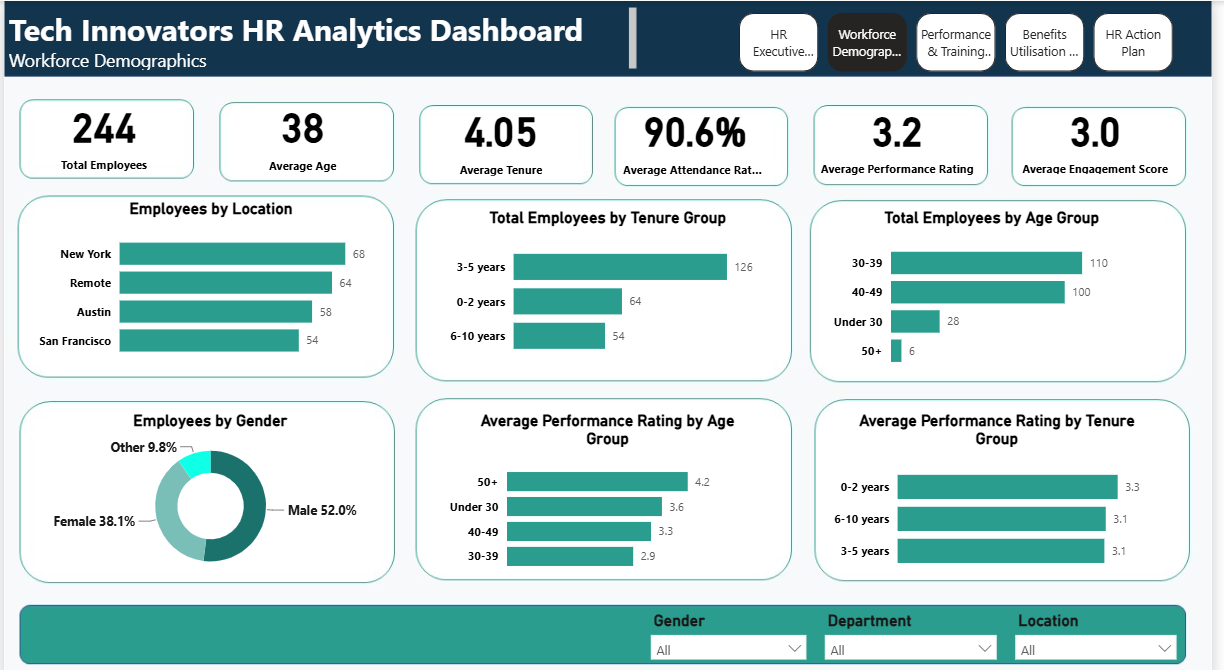

The dashboard page shown, as its layout file describes it:
{"tool":"powerbi","page":{"name":"Workforce Demographics","canvas":[1280,720],"ordinal":1},"visuals":[{"type":"cardVisual","fields":{"Data":["Measures_Table.Average Age"]},"box":[225.9,101.8,182.9,89.1],"z":0},{"type":"slicer","fields":{"Values":["Employee_Demographics_Data.Location"]},"box":[1062.3,641.6,190.4,57.1],"z":1000},{"type":"slicer","fields":{"Values":["Employee_Demographics_Data.Gender"]},"box":[675.9,641.6,184.7,57.1],"z":2000},{"type":"slicer","fields":{"Values":["Employee_Performance_Data.Department"]},"box":[860.5,641.6,201.8,57.1],"z":3000},{"type":"textbox","box":[0,1.9,675.9,76.2],"z":4000},{"type":"pageNavigator","box":[779.4,12.7,464.5,62],"z":5000},{"type":"cardVisual","fields":{"Data":["Measures_Table.Total Employees"]},"box":[19.1,106.6,175,79.5],"z":6000},{"type":"cardVisual","fields":{"Data":["Measures_Table.Average Tenure"]},"box":[439,111.3,176.6,79.5],"z":7000},{"type":"cardVisual","fields":{"Data":["Measures_Table.Average Attendance Rate %"]},"box":[639.4,111.3,186.1,79.5],"z":8000},{"type":"cardVisual","fields":{"Data":["Measures_Table.Average Performance Rating"]},"box":[846.2,106.6,202,87.5],"z":9000},{"type":"cardVisual","fields":{"Data":["Measures_Table.Average Engagement Score"]},"box":[1054.6,111.3,205.2,77.9],"z":10000},{"type":"barChart","title":"Employees by Location","fields":{"Category":["Employee_Demographics_Data.Location"],"Y":["CountNonNull(Employee_Demographics_Data.Employee ID)"]},"box":[30.2,210,378.6,179.7],"z":11000},{"type":"donutChart","title":"Employees by Gender","fields":{"Category":["Employee_Demographics_Data.Gender"],"Y":["Measures_Table.Total Employees"]},"box":[35,434.2,367.4,181.3],"z":12000},{"type":"barChart","fields":{"Category":["Employee_Demographics_Data.Tenure Group"],"Y":["Measures_Table.Total Employees"]},"box":[466,219.5,348.3,170.2],"z":13000},{"type":"barChart","fields":{"Y":["Measures_Table.Total Employees"],"Category":["Employee_Demographics_Data.Age Group"]},"box":[873.2,219.5,348.3,181.3],"z":14000},{"type":"barChart","fields":{"Category":["Employee_Demographics_Data.Age Group"],"Y":["Measures_Table.Average Performance Rating"]},"box":[466,434,348,181],"z":15000},{"type":"barChart","fields":{"Category":["Employee_Demographics_Data.Tenure Group"],"Y":["Measures_Table.Average Performance Rating"]},"box":[873.2,434.2,359.5,181.3],"z":16000},{"type":"actionButton","box":[779.4,12.7,81.1,60.4],"z":17000},{"type":"actionButton","box":[1062.5,12.7,89.1,65.2],"z":18000},{"type":"actionButton","box":[960.7,12.7,87.5,65.2],"z":19000},{"type":"actionButton","box":[1151.6,12.7,93.8,60.4],"z":20000}]}

Visuals, with their boxes in screenshot pixels (x1, y1, x2, y2), scaled from the page's 1280x720 canvas onto the 1224x670 screenshot:
cardVisual - Measures_Table.Average Age: rect(216, 95, 391, 178)
slicer - Employee_Demographics_Data.Location: rect(1016, 597, 1198, 650)
slicer - Employee_Demographics_Data.Gender: rect(646, 597, 823, 650)
slicer - Employee_Performance_Data.Department: rect(823, 597, 1016, 650)
textbox: rect(0, 2, 646, 73)
pageNavigator: rect(745, 12, 1189, 70)
cardVisual - Measures_Table.Total Employees: rect(18, 99, 186, 173)
cardVisual - Measures_Table.Average Tenure: rect(420, 104, 589, 178)
cardVisual - Measures_Table.Average Attendance Rate %: rect(611, 104, 789, 178)
cardVisual - Measures_Table.Average Performance Rating: rect(809, 99, 1002, 181)
cardVisual - Measures_Table.Average Engagement Score: rect(1008, 104, 1205, 176)
"Employees by Location" barChart: rect(29, 195, 391, 363)
"Employees by Gender" donutChart: rect(33, 404, 385, 573)
barChart - Employee_Demographics_Data.Tenure Group x Measures_Table.Total Employees: rect(446, 204, 779, 363)
barChart - Measures_Table.Total Employees x Employee_Demographics_Data.Age Group: rect(835, 204, 1168, 373)
barChart - Employee_Demographics_Data.Age Group x Measures_Table.Average Performance Rating: rect(446, 404, 778, 572)
barChart - Employee_Demographics_Data.Tenure Group x Measures_Table.Average Performance Rating: rect(835, 404, 1179, 573)
actionButton: rect(745, 12, 823, 68)
actionButton: rect(1016, 12, 1101, 72)
actionButton: rect(919, 12, 1002, 72)
actionButton: rect(1101, 12, 1191, 68)
